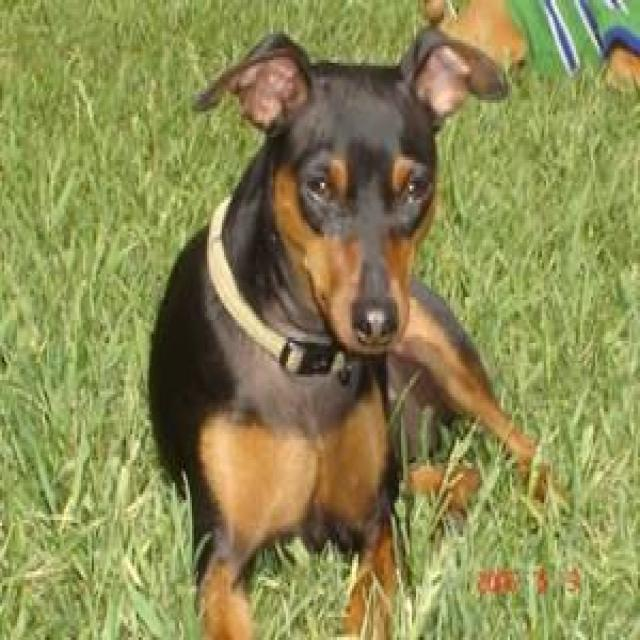dog-miniature_pinscher: (143, 14, 531, 634)
